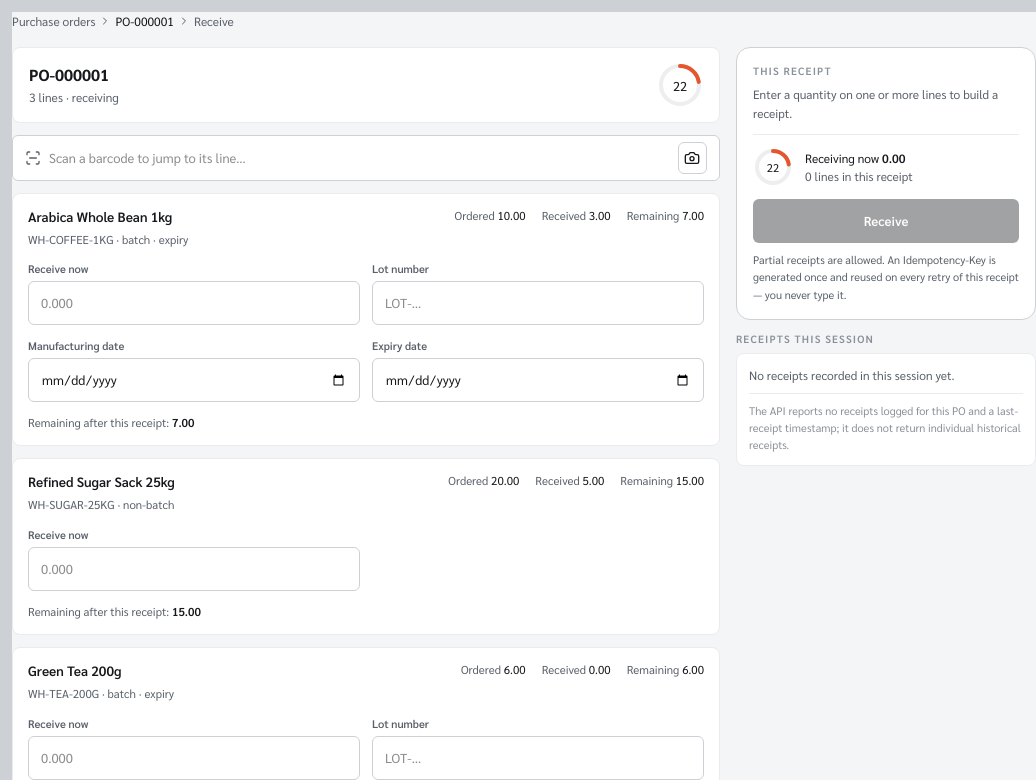
Test: ReceivingConsole — backend rejections › idempotency mismatch 409 → banner + 'Start a new receipt', never auto-regenerates the key
This screenshot has width=1036, height=780.
Type "5" into the field labelled "Receive now" below "WH-SUGAR-25KG" at (194, 569), box [28,547,360,591]
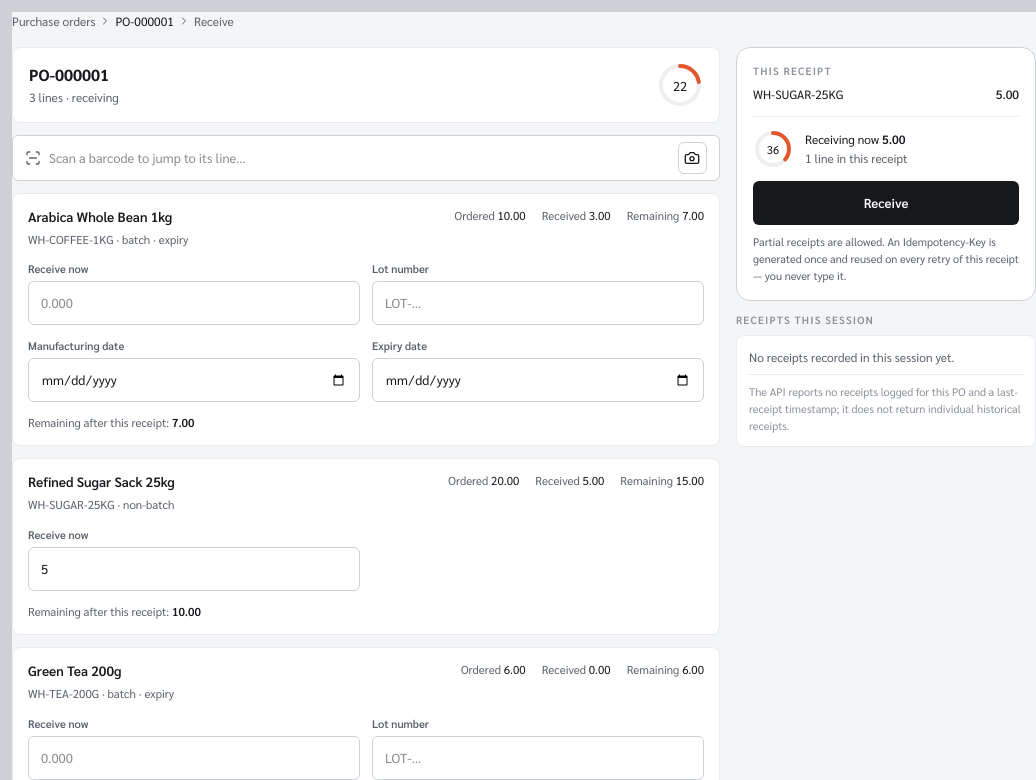
Click the button "Receive" at (886, 203), box [753,181,1019,225]
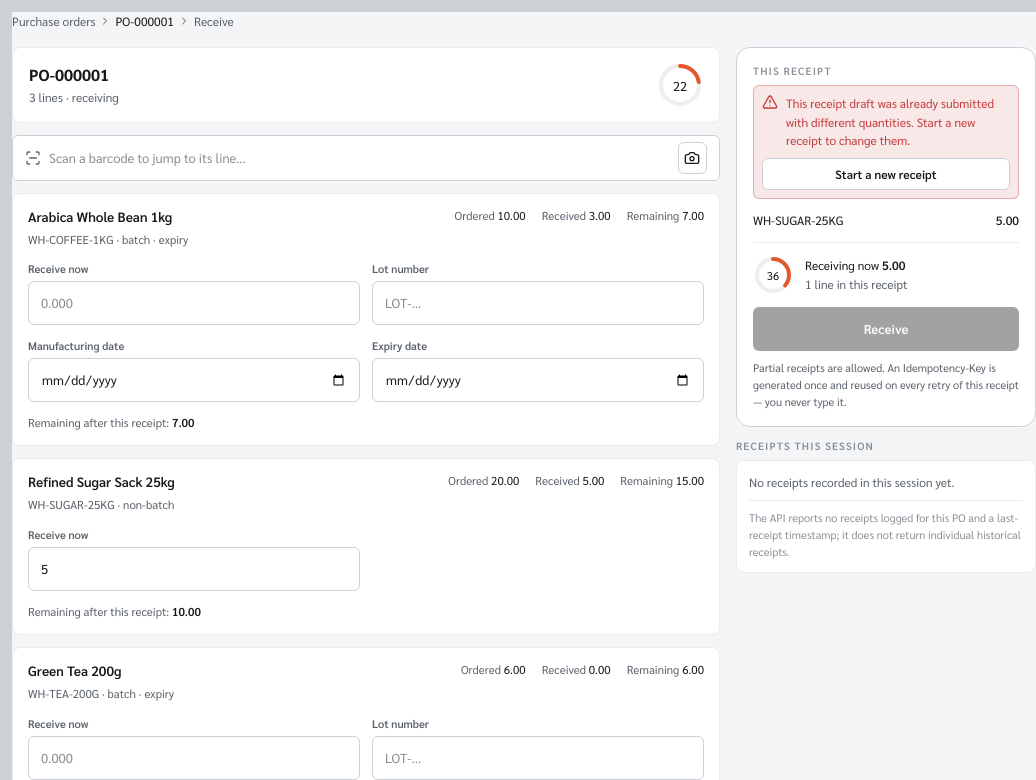
Result: the text "already submitted with different quantities" is shown at [786,95,994,148]
Click the button "Start a new receipt" at (886, 174), box [762,158,1010,190]
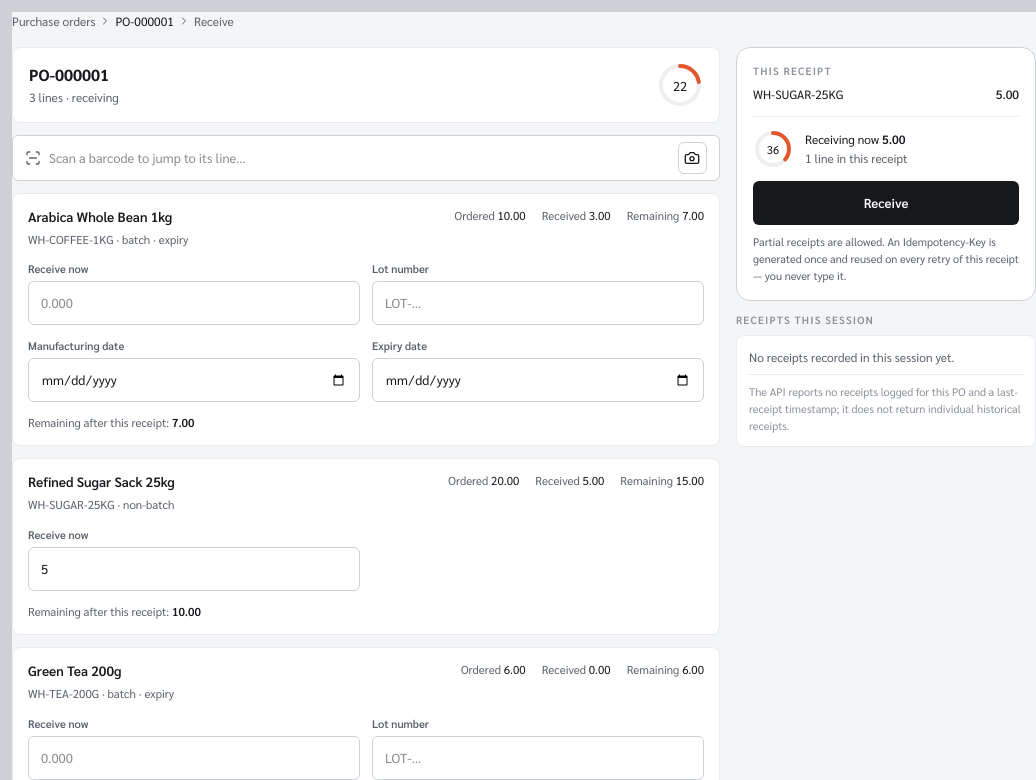
Result: the text "already submitted with different quantities" is gone
